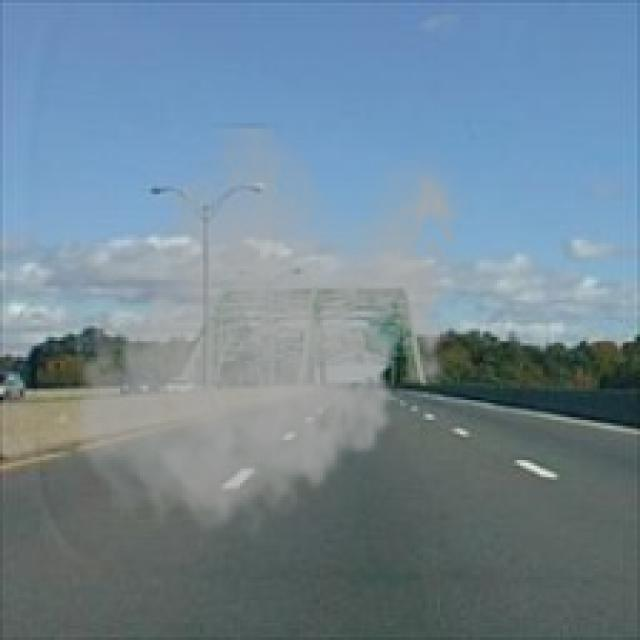smoke: (66, 123, 471, 546)
